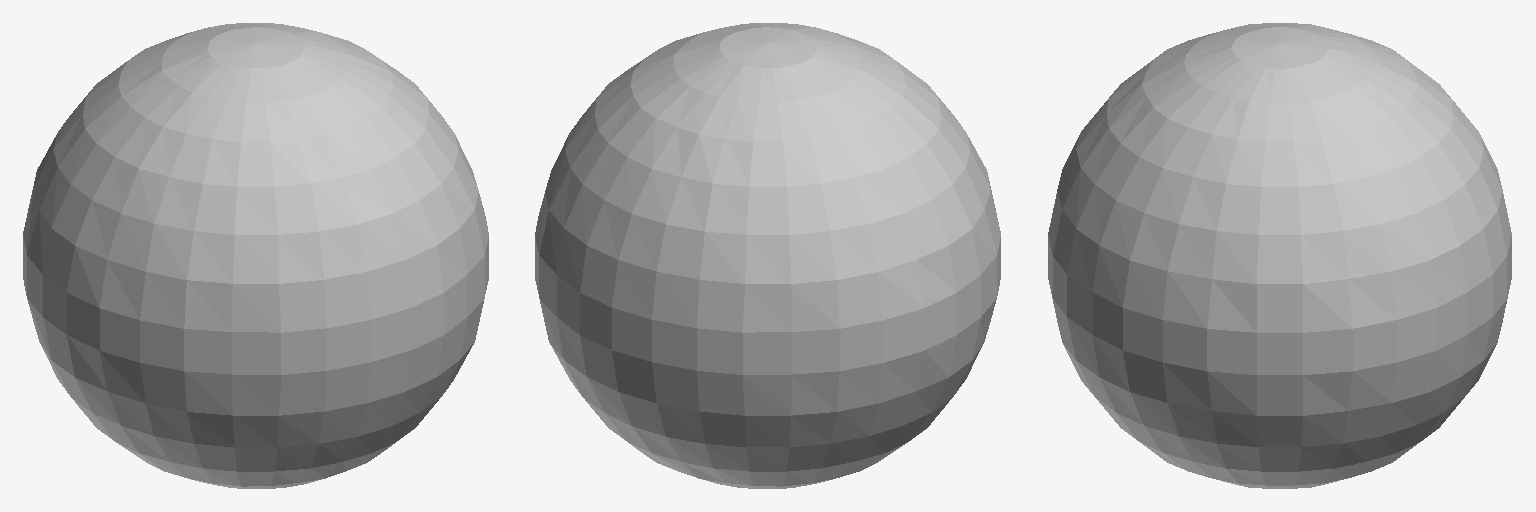
Rendered from kulka.obj.
3 views of the same model, side by side, from view 1: azimuth 30°, elevation 25°; view 2: azimuth 150°, elevation 25°; view 3: azimuth 270°, elevation 25° (orthographic).
Visible parts, largest first — view 1: Sphere001; view 2: Sphere001; view 3: Sphere001.
Boxes of the visible parts, x1=… form: Sphere001: x1=23, y1=23, x2=488, y2=488; Sphere001: x1=535, y1=23, x2=1000, y2=488; Sphere001: x1=1048, y1=23, x2=1511, y2=488.
Size of the model in its own units: 0.0198 by 0.02 by 0.0198.